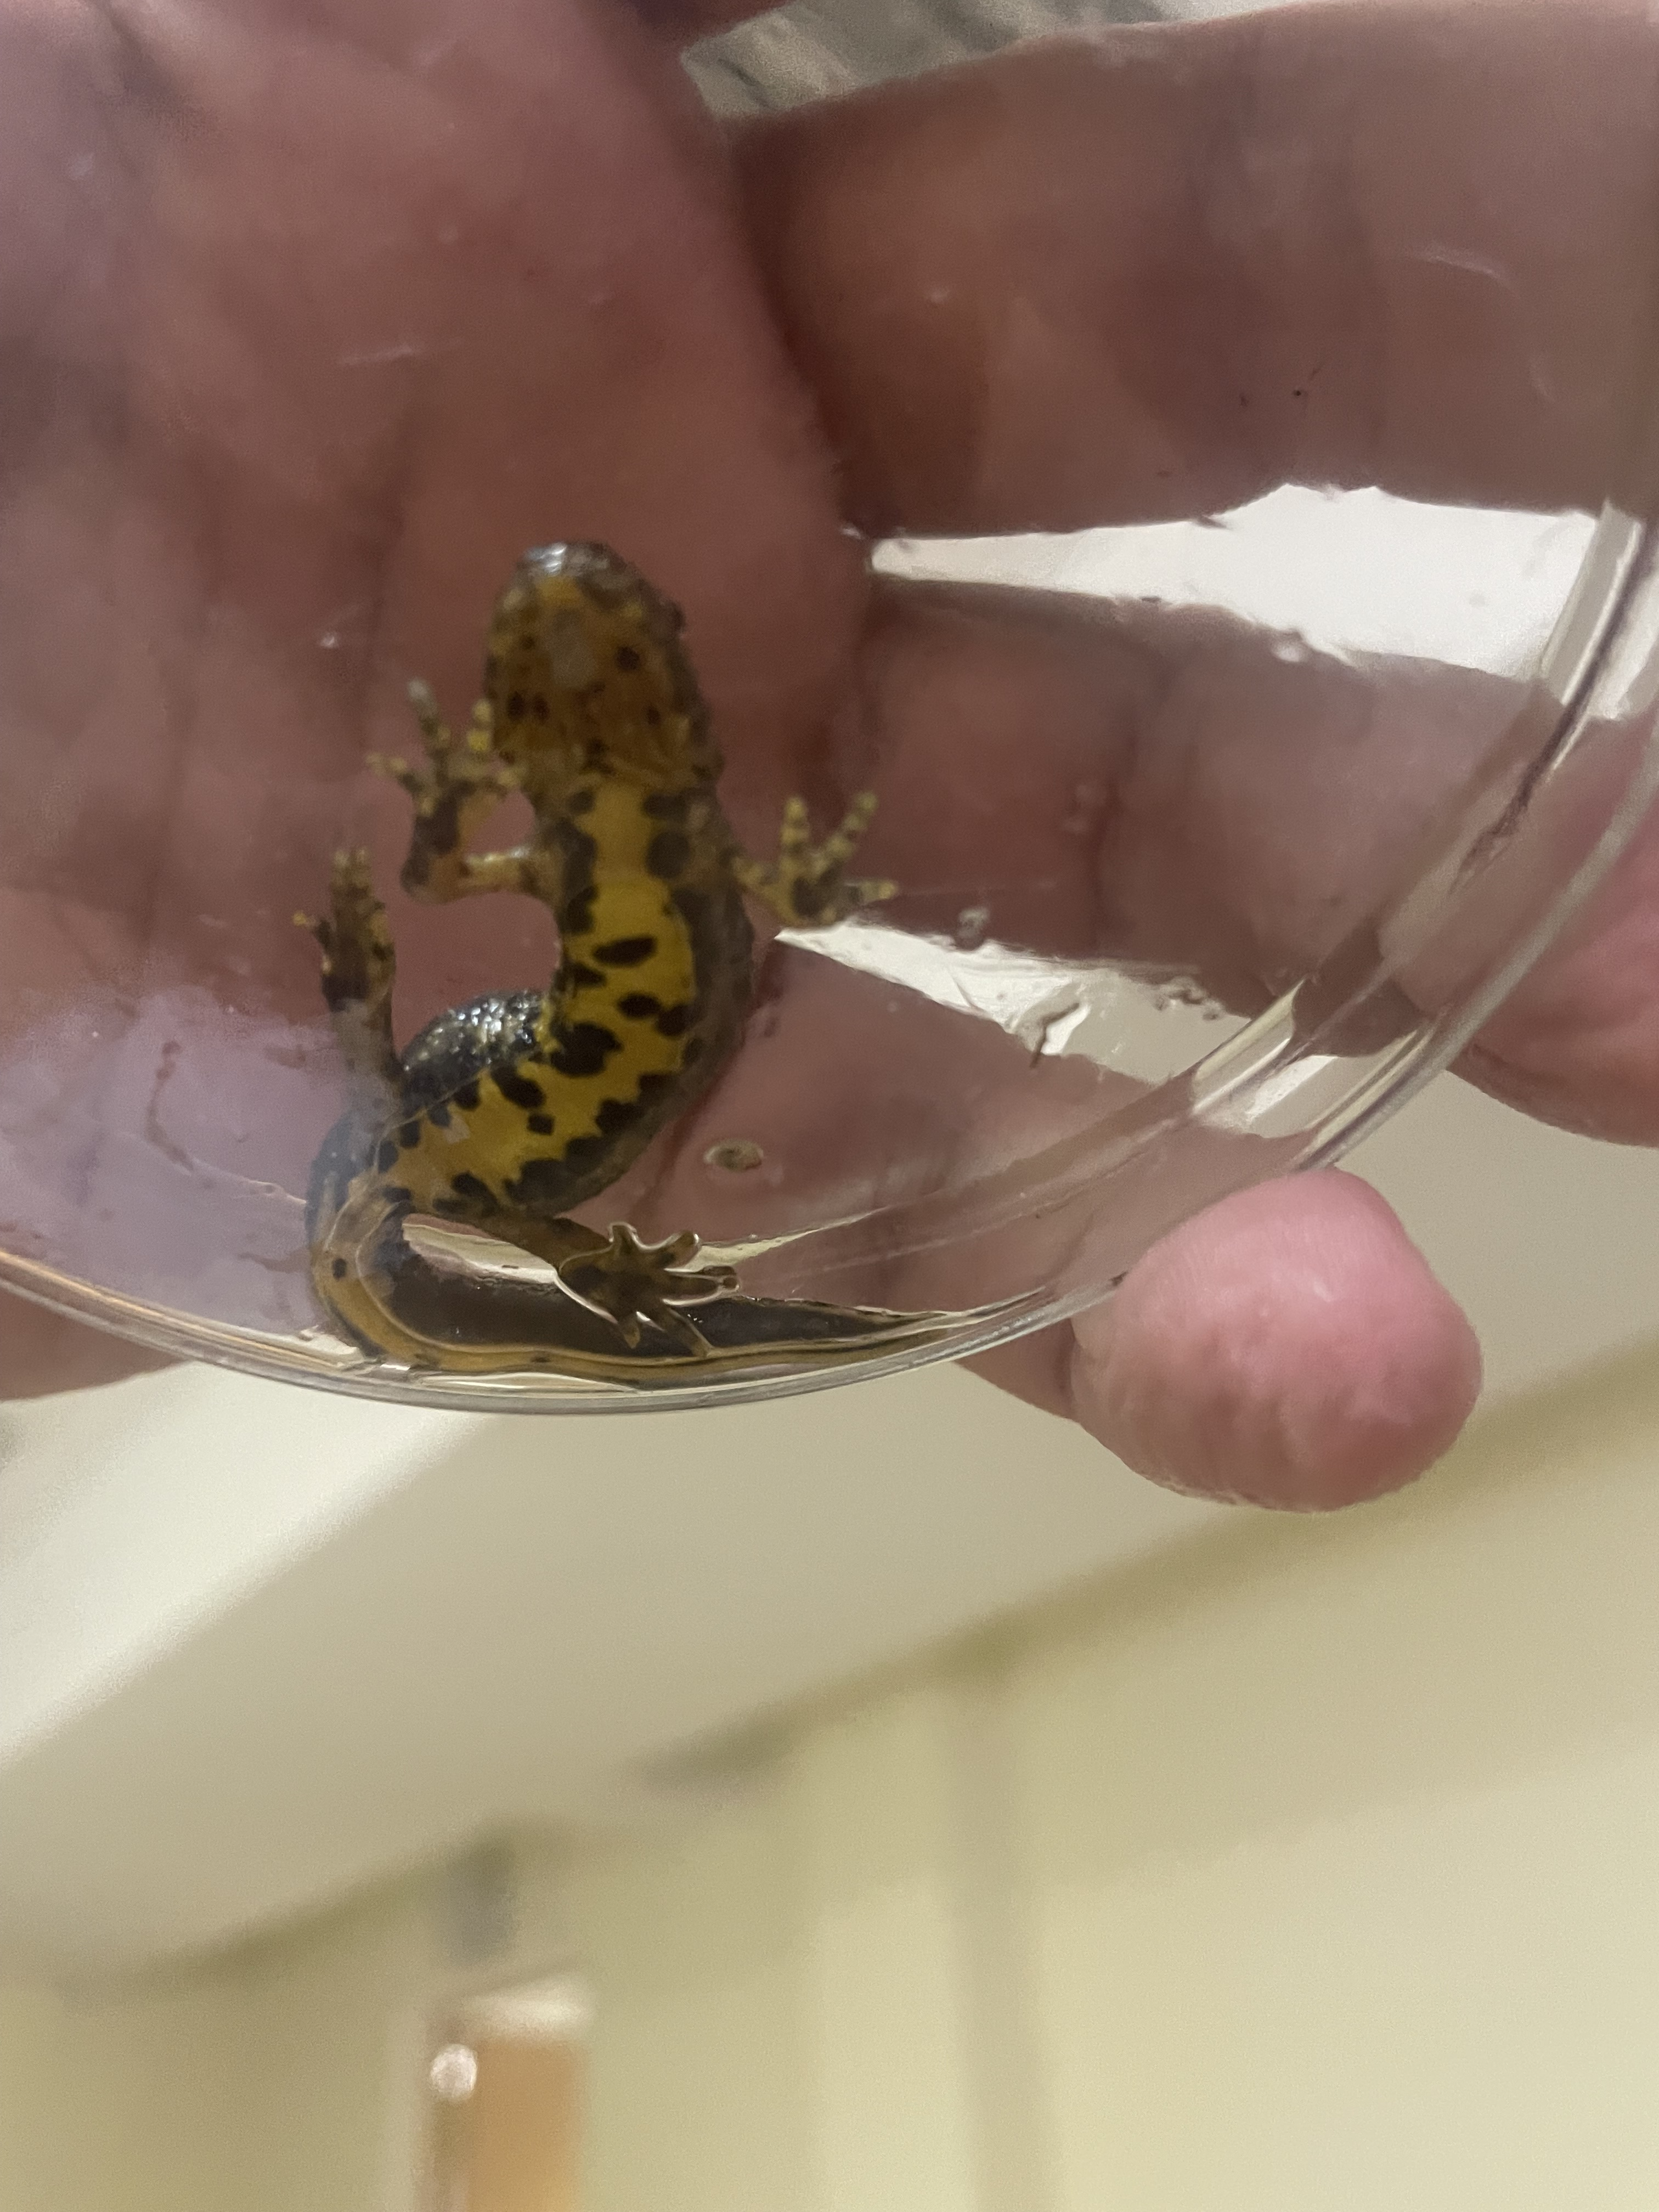Karelin_newt: (397, 887, 755, 1217)
